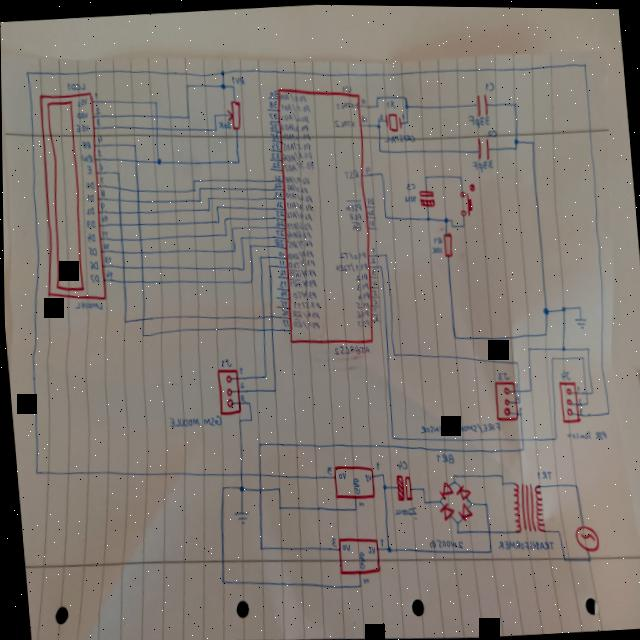capacitor: (393, 472, 412, 501), (476, 135, 490, 160), (418, 187, 435, 207), (475, 92, 489, 116)
crossover: (256, 484, 263, 492), (255, 469, 262, 477), (236, 469, 243, 477), (153, 124, 160, 131), (140, 314, 146, 321), (139, 277, 145, 284), (138, 263, 144, 270), (115, 195, 121, 202), (116, 208, 122, 215), (134, 208, 140, 215), (138, 248, 144, 255), (117, 220, 123, 227), (136, 220, 142, 227), (118, 235, 124, 242), (137, 235, 143, 242), (119, 248, 125, 255), (120, 263, 126, 270), (120, 277, 126, 284), (134, 197, 140, 204), (134, 186, 140, 193), (116, 184, 122, 191), (133, 157, 139, 164), (153, 112, 159, 119), (485, 527, 490, 533), (518, 434, 523, 440), (261, 312, 265, 319), (261, 325, 265, 332), (269, 312, 273, 318), (269, 325, 273, 331), (582, 388, 586, 393), (516, 387, 520, 391)
diode: (456, 500, 471, 521), (437, 479, 452, 499), (454, 481, 470, 499), (437, 500, 452, 519)
ground: (231, 509, 249, 524), (572, 314, 587, 327)
junction: (540, 303, 550, 314), (31, 466, 41, 477), (154, 156, 162, 166), (236, 482, 244, 492), (383, 543, 391, 552), (524, 343, 532, 351), (456, 172, 464, 180), (423, 213, 431, 221), (511, 98, 518, 107), (581, 58, 588, 67), (559, 342, 566, 351), (559, 303, 566, 311), (422, 171, 429, 179), (270, 385, 277, 393), (275, 502, 282, 510), (234, 156, 241, 164), (254, 439, 261, 447), (529, 137, 536, 145), (260, 371, 267, 379), (121, 317, 128, 325), (239, 264, 246, 272), (481, 499, 488, 507), (418, 483, 425, 491), (246, 414, 253, 422), (274, 483, 281, 491), (388, 432, 395, 440), (114, 168, 121, 176), (235, 415, 242, 423), (139, 329, 146, 337), (219, 82, 226, 89), (550, 433, 557, 440), (218, 482, 224, 490), (526, 385, 532, 392), (451, 332, 457, 339), (560, 553, 566, 560), (256, 543, 262, 550), (184, 81, 190, 88), (390, 349, 396, 356), (218, 577, 224, 584), (486, 545, 492, 552), (497, 470, 503, 477), (513, 136, 519, 143), (152, 99, 158, 106), (442, 215, 448, 221), (220, 69, 225, 76), (379, 169, 384, 176), (377, 146, 382, 153), (542, 328, 547, 335), (214, 203, 219, 210), (382, 212, 387, 218), (132, 141, 137, 147), (554, 526, 559, 532), (257, 254, 262, 260), (379, 470, 384, 476), (205, 194, 210, 200), (197, 196, 202, 202), (205, 206, 210, 212), (215, 218, 220, 224), (222, 215, 227, 221), (222, 231, 227, 237), (229, 224, 234, 230), (231, 246, 236, 252), (238, 234, 243, 240), (197, 185, 202, 191), (267, 262, 272, 268), (576, 302, 581, 308), (605, 407, 609, 414), (213, 125, 217, 132), (186, 113, 190, 119), (572, 481, 576, 487), (246, 399, 250, 405), (248, 242, 252, 248), (249, 277, 253, 283), (192, 177, 196, 183), (192, 186, 196, 192), (356, 582, 360, 588), (381, 482, 385, 488), (584, 398, 588, 404), (589, 387, 593, 393), (580, 353, 584, 359), (585, 343, 589, 349), (549, 353, 553, 359), (404, 102, 408, 108), (212, 111, 216, 117), (514, 357, 518, 363), (462, 221, 466, 226), (382, 251, 386, 256), (520, 444, 524, 449), (376, 122, 380, 127), (585, 555, 589, 560), (513, 144, 517, 149), (378, 263, 382, 268), (375, 103, 379, 108), (374, 94, 378, 99), (25, 70, 29, 75), (352, 506, 356, 511), (499, 479, 503, 484), (467, 499, 471, 504), (453, 519, 458, 523), (450, 472, 454, 476), (451, 478, 455, 482), (436, 498, 440, 502), (421, 498, 425, 502), (454, 528, 458, 532), (403, 94, 407, 98), (449, 217, 453, 221), (231, 84, 235, 88), (518, 410, 521, 415), (405, 119, 408, 123), (451, 222, 453, 226), (517, 398, 519, 402), (377, 118, 379, 121)
resistor: (225, 98, 242, 129), (441, 230, 453, 257)
source: (572, 522, 599, 551)
switch: (457, 187, 473, 216)
terminal: (215, 366, 241, 415), (492, 377, 517, 420), (557, 378, 579, 421)
text: (418, 418, 500, 437), (495, 533, 553, 553), (167, 411, 220, 431), (564, 426, 606, 441), (331, 341, 370, 355), (427, 535, 462, 550), (279, 109, 309, 125), (334, 259, 367, 273), (285, 206, 312, 223), (382, 130, 416, 143), (283, 159, 314, 173), (292, 315, 320, 330), (281, 100, 311, 114), (284, 189, 312, 204), (279, 89, 306, 104), (285, 198, 312, 213), (281, 149, 312, 162), (288, 275, 316, 289), (467, 111, 490, 128), (279, 120, 309, 133), (281, 129, 311, 142), (285, 218, 312, 232), (291, 307, 319, 320), (73, 299, 103, 311), (286, 257, 316, 269), (281, 140, 310, 152), (288, 266, 317, 278), (284, 173, 310, 186), (337, 248, 365, 260), (292, 298, 320, 310), (471, 157, 493, 172), (286, 227, 311, 240), (286, 237, 313, 249), (286, 248, 313, 260), (392, 503, 416, 516), (286, 181, 308, 195), (343, 196, 362, 212), (434, 449, 454, 464), (291, 288, 316, 300), (333, 117, 355, 128), (65, 80, 86, 91), (335, 99, 354, 110), (535, 467, 551, 478), (343, 167, 359, 178), (74, 122, 90, 132), (219, 356, 232, 368), (80, 152, 93, 164), (231, 74, 245, 85), (217, 119, 231, 130), (559, 366, 570, 380), (354, 300, 369, 310), (351, 476, 359, 494), (347, 211, 362, 220), (483, 79, 494, 91), (496, 369, 509, 379), (85, 230, 95, 243), (357, 550, 364, 568), (403, 193, 417, 202), (353, 271, 367, 280), (395, 458, 406, 469), (351, 220, 362, 231), (76, 96, 87, 107), (83, 205, 94, 216), (85, 218, 96, 229), (86, 245, 97, 256), (88, 259, 99, 270), (88, 272, 99, 283), (81, 138, 91, 150), (386, 97, 396, 109), (355, 280, 368, 289), (356, 290, 369, 299), (356, 308, 369, 317), (356, 318, 369, 327), (341, 83, 352, 93), (485, 127, 497, 136), (76, 110, 88, 119), (86, 191, 95, 203), (339, 541, 349, 551), (432, 234, 442, 244), (273, 237, 283, 247), (365, 543, 374, 554), (405, 180, 416, 189), (431, 244, 442, 253), (269, 131, 280, 140), (104, 268, 113, 278), (362, 471, 371, 481), (274, 208, 284, 217), (271, 160, 281, 169), (270, 150, 280, 159), (271, 140, 280, 150), (269, 120, 278, 130), (269, 99, 278, 109), (269, 88, 279, 97), (85, 180, 94, 190), (102, 254, 112, 263), (99, 213, 108, 222), (336, 470, 345, 479), (365, 195, 374, 204), (275, 228, 284, 237), (275, 217, 284, 226), (274, 198, 283, 207), (268, 111, 277, 120), (85, 164, 93, 174), (236, 364, 243, 374), (329, 536, 336, 546), (324, 464, 331, 474), (360, 575, 368, 583), (279, 299, 287, 307), (278, 279, 286, 287), (274, 189, 282, 197), (101, 242, 109, 250), (96, 133, 102, 143), (237, 380, 244, 388), (238, 393, 245, 401), (360, 96, 367, 104), (360, 114, 367, 122), (281, 318, 288, 326), (281, 307, 288, 315), (280, 288, 287, 296), (277, 249, 284, 257), (273, 181, 281, 188), (93, 106, 100, 114), (378, 535, 383, 545), (374, 459, 379, 469), (368, 218, 375, 225), (516, 404, 522, 412), (364, 165, 370, 173), (99, 202, 105, 210), (367, 208, 374, 214), (369, 255, 375, 262), (279, 268, 286, 274), (101, 230, 107, 237), (575, 383, 580, 391), (577, 406, 582, 414), (100, 189, 105, 197), (99, 176, 104, 184), (98, 162, 103, 170), (97, 148, 102, 156), (95, 117, 100, 125), (93, 91, 98, 99), (357, 499, 363, 505), (371, 288, 377, 294), (377, 112, 383, 118), (278, 259, 284, 265), (274, 174, 280, 180), (371, 267, 376, 274), (371, 278, 376, 285), (514, 381, 518, 389), (576, 396, 580, 403), (371, 245, 375, 252), (400, 112, 404, 119), (372, 297, 376, 303), (373, 306, 377, 312), (514, 393, 518, 399), (374, 314, 377, 319)
transformer: (506, 477, 545, 533)
